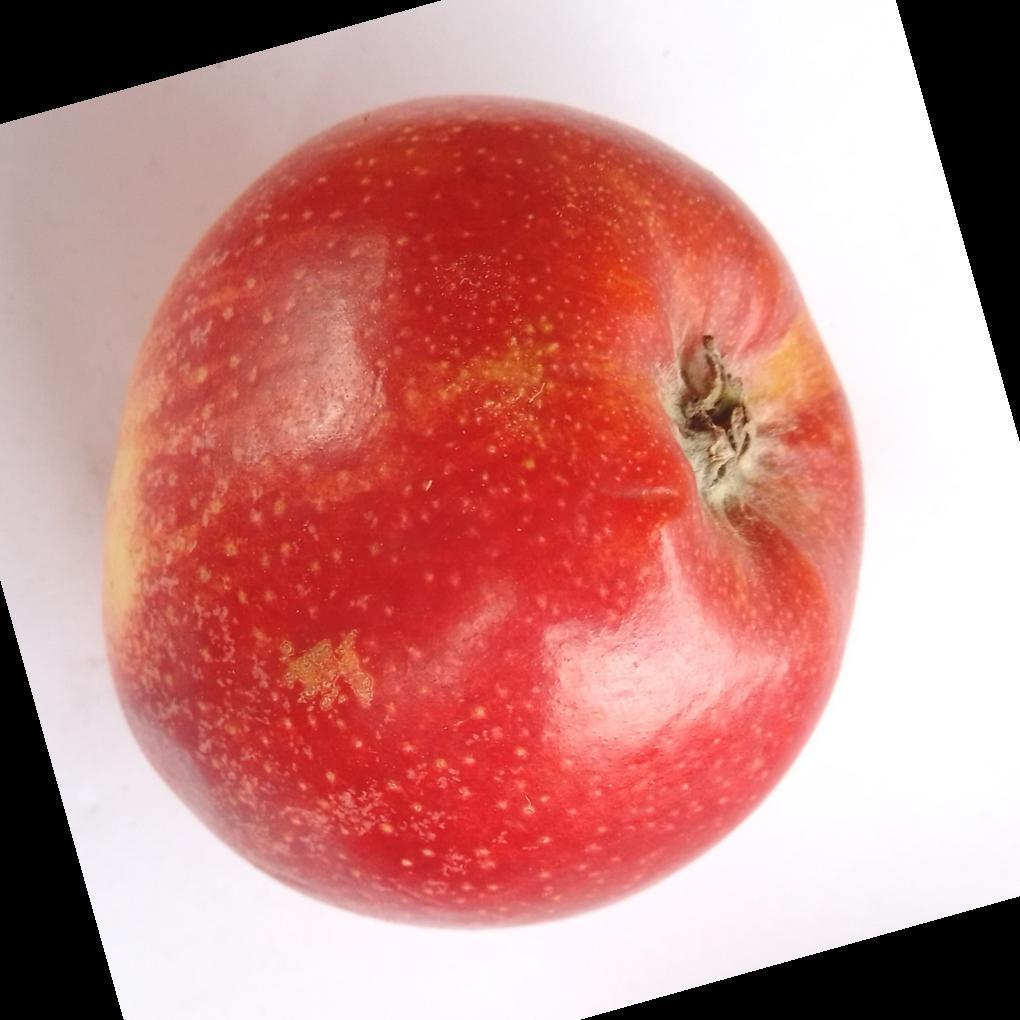FreshGuava: (98, 95, 869, 936)
